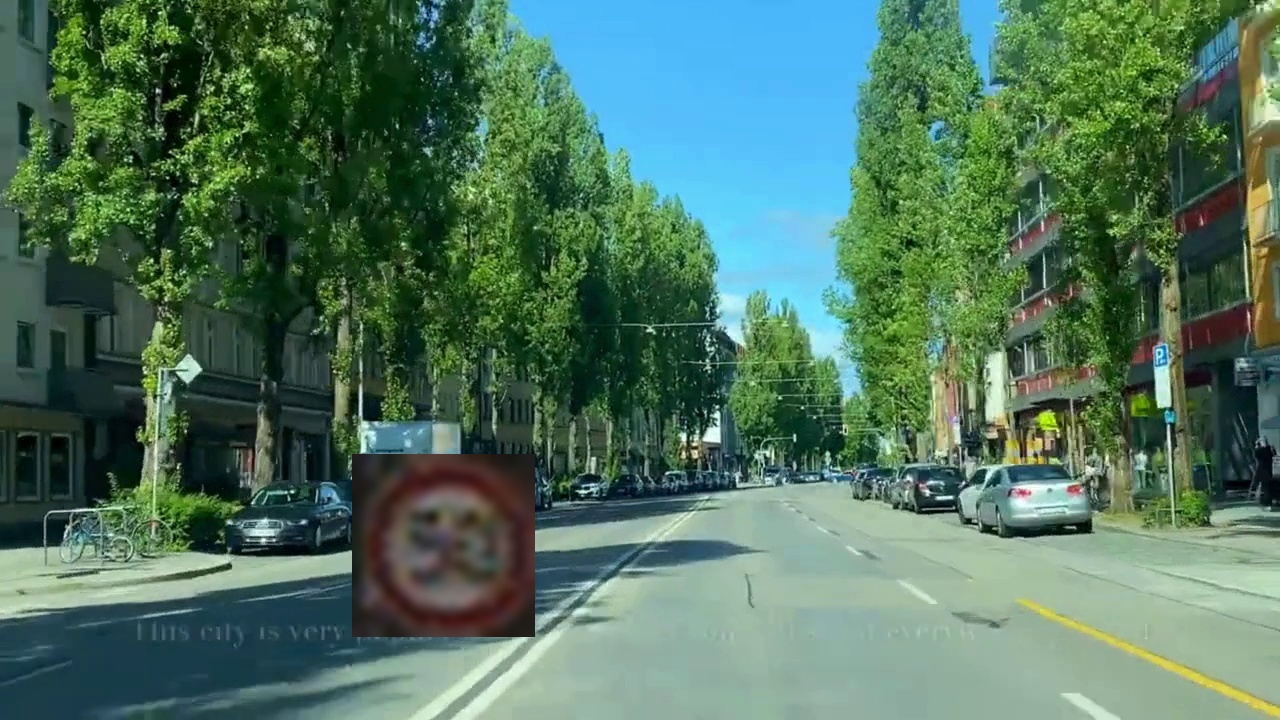Speed 50: (352, 454, 535, 637)
